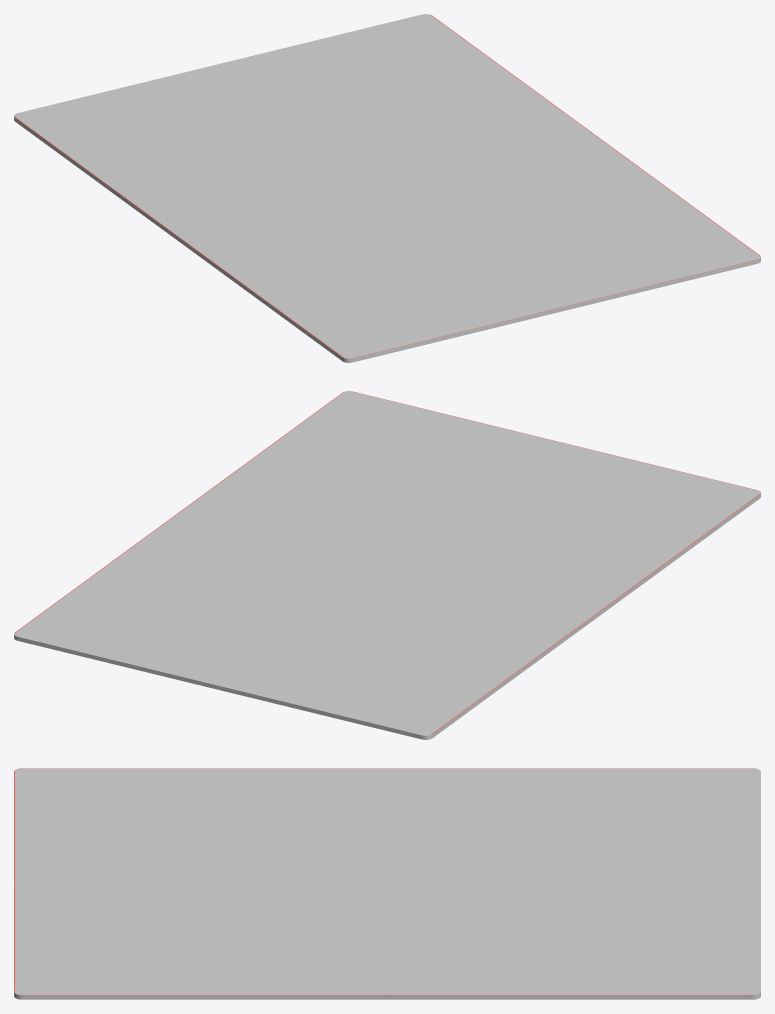
The model's file is card_view_3d.fbx.
3 views of the same model, one above another, from view 1: azimuth 30°, elevation 25°; view 2: azimuth 150°, elevation 25°; view 3: azimuth 270°, elevation 25° (orthographic). The views are drawn at different scales.
Visible parts, largest first — view 1: Body; view 2: Body; view 3: Body.
Part boxes in pixels (x1,y1,x2,y2): Body: (14, 14, 760, 362); Body: (14, 391, 760, 739); Body: (14, 768, 760, 999).
Bounding box in the file's own units: 64 × 0.6 × 89.
